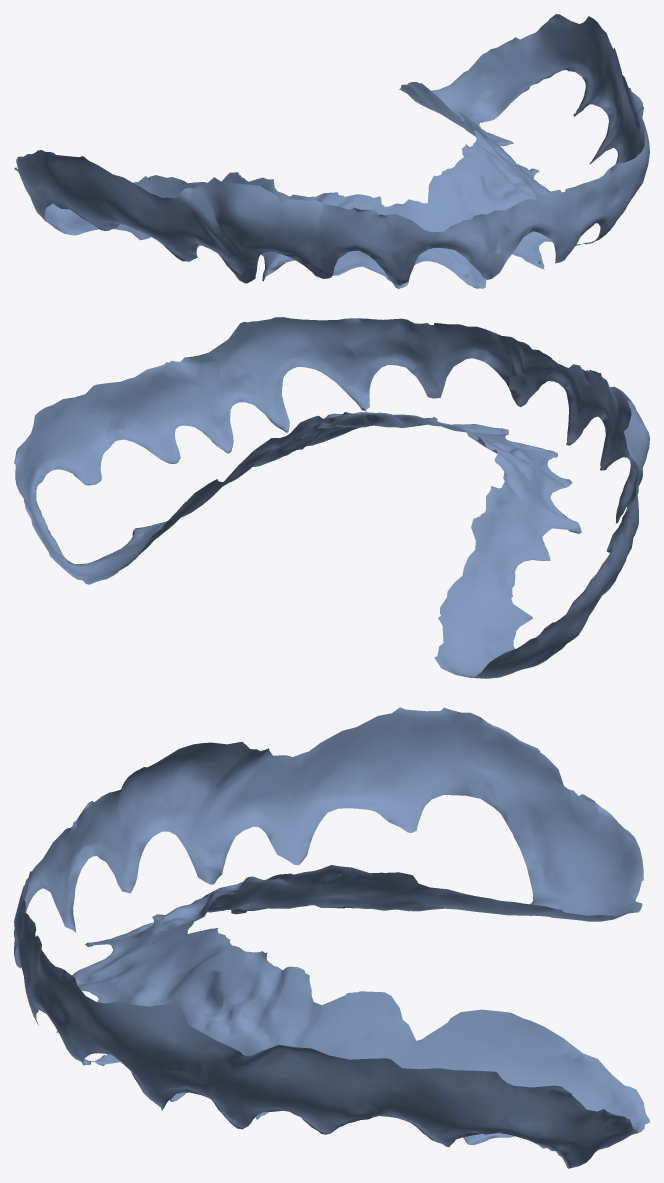
File: imgums_N.glb
3 renders of one model, top to bottom at view 1: azimuth 30°, elevation 25°; view 2: azimuth 150°, elevation 25°; view 3: azimuth 270°, elevation 25°, orthographic. The views are drawn at different scales.
Visible parts, largest first — view 1: IOS UPPER; view 2: IOS UPPER; view 3: IOS UPPER.
Boxes of the visible parts, bbox=[...] form: IOS UPPER: bbox=[14, 14, 649, 288]; IOS UPPER: bbox=[14, 317, 649, 678]; IOS UPPER: bbox=[14, 707, 649, 1168].
Bounding box in the file's own units: 69.74 × 16.89 × 53.93.
